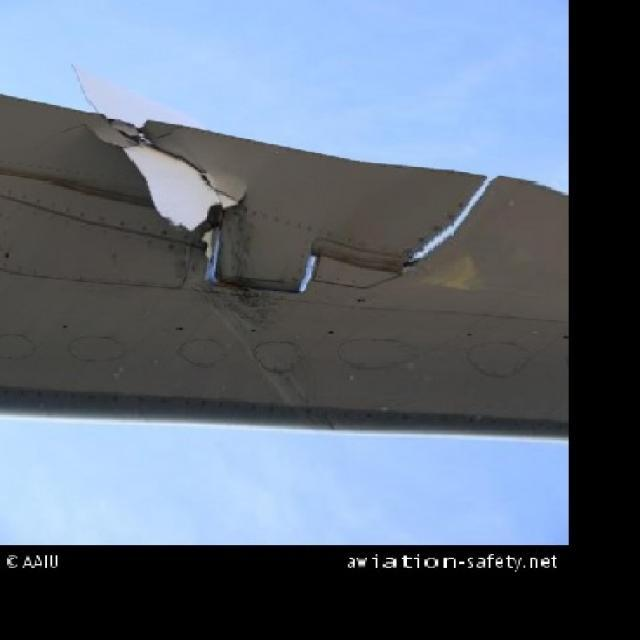crack: (91, 115, 269, 238)
